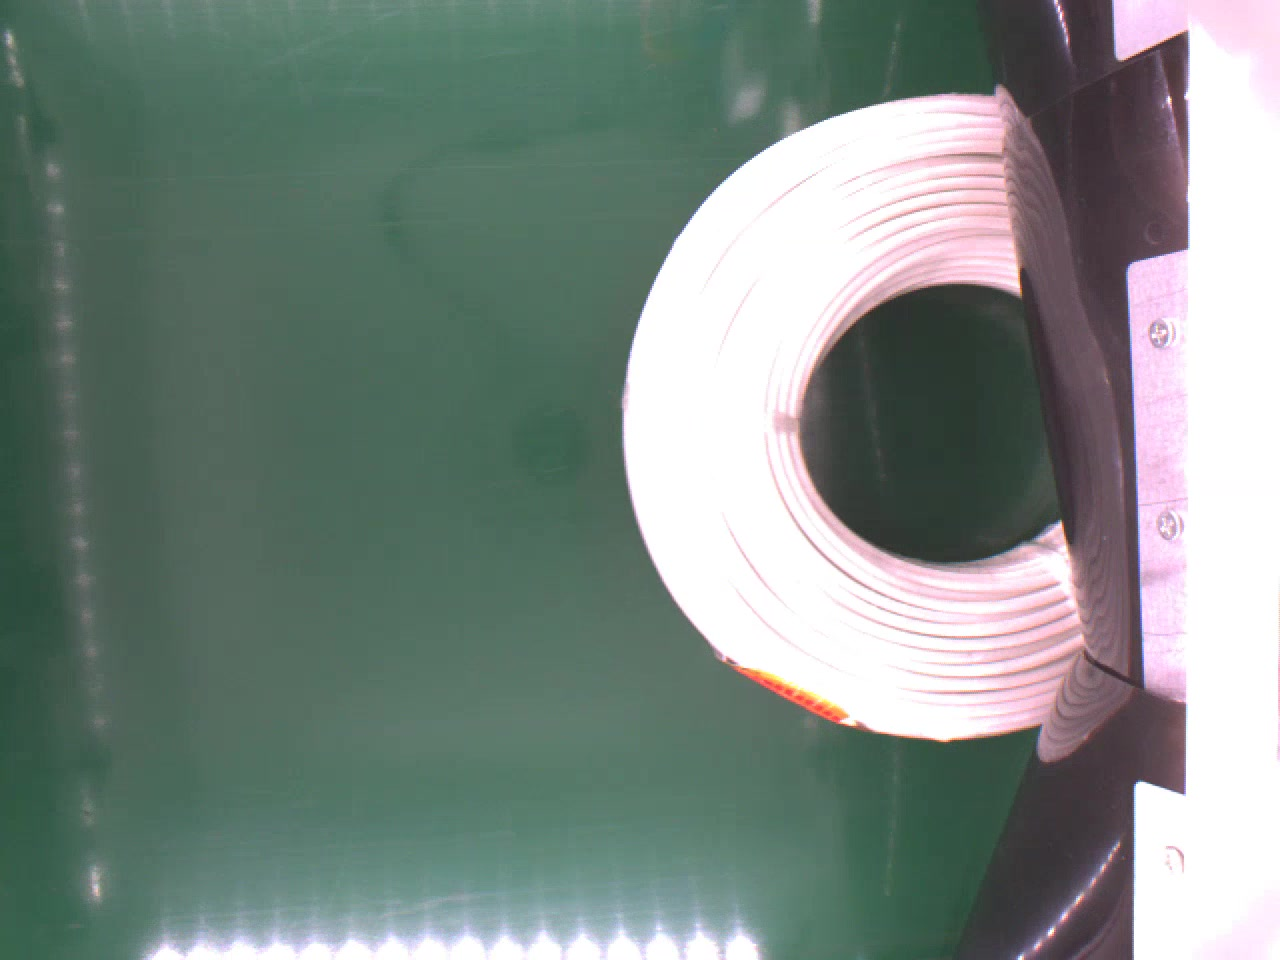white: (622, 91, 1092, 747)
